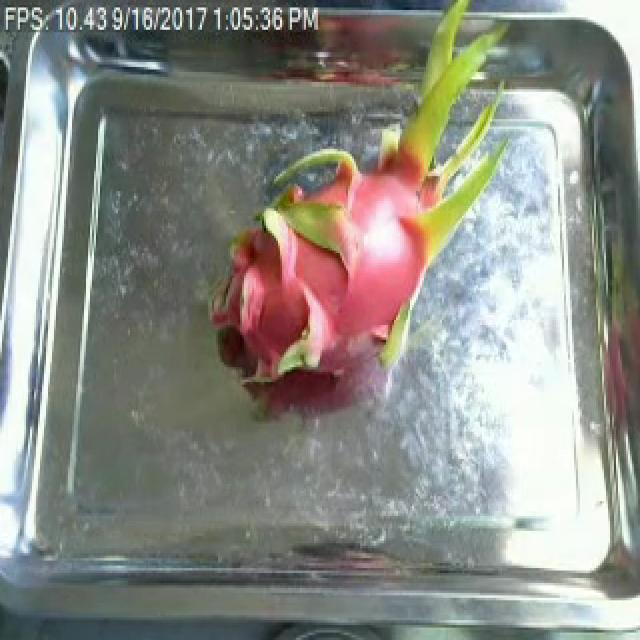fruit: (194, 57, 534, 409)
